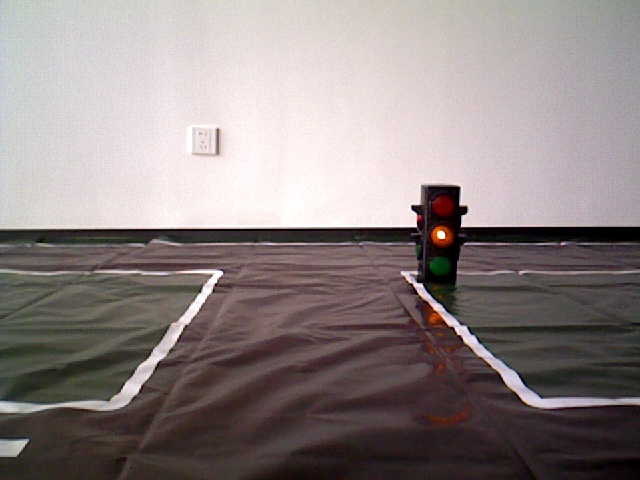yellow: (418, 182, 462, 283)
